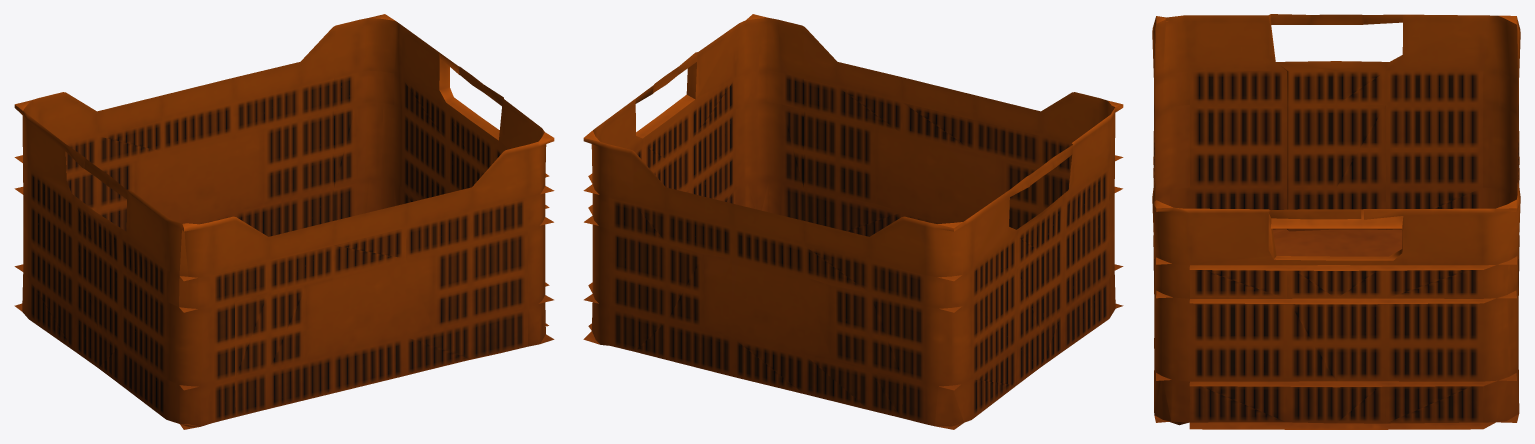
Rendered from crate_plastic2.glb.
The picture shows the model from 3 angles, left to right: view 1: azimuth 30°, elevation 25°; view 2: azimuth 150°, elevation 25°; view 3: azimuth 270°, elevation 25°; orthographic projection. The views are drawn at different scales.
Parts seen in each view (by area): view 1: mesh; view 2: mesh; view 3: mesh.
Boxes of the visible parts, x1,y1,x2,y2 form: mesh: (14,14,554,429); mesh: (583,14,1123,429); mesh: (1152,14,1520,429).
Size of the model in its own units: 0.4971 by 0.2541 by 0.3865.
1 material, 1 textured.
